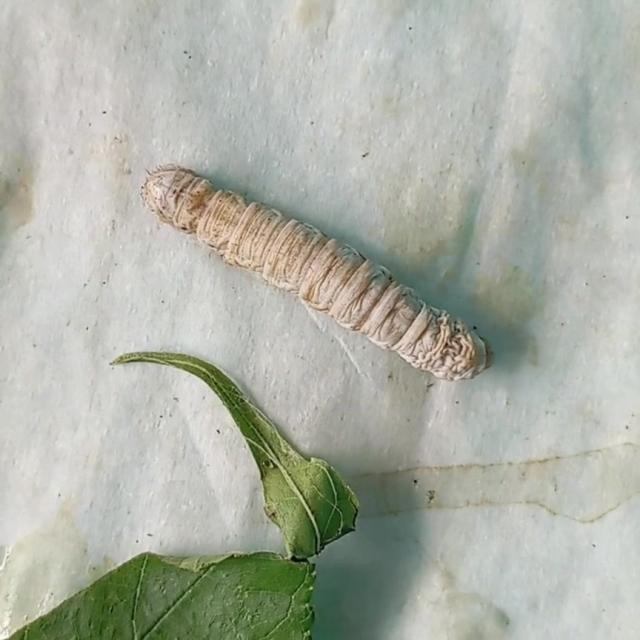Grasserie: (120, 141, 512, 410)
